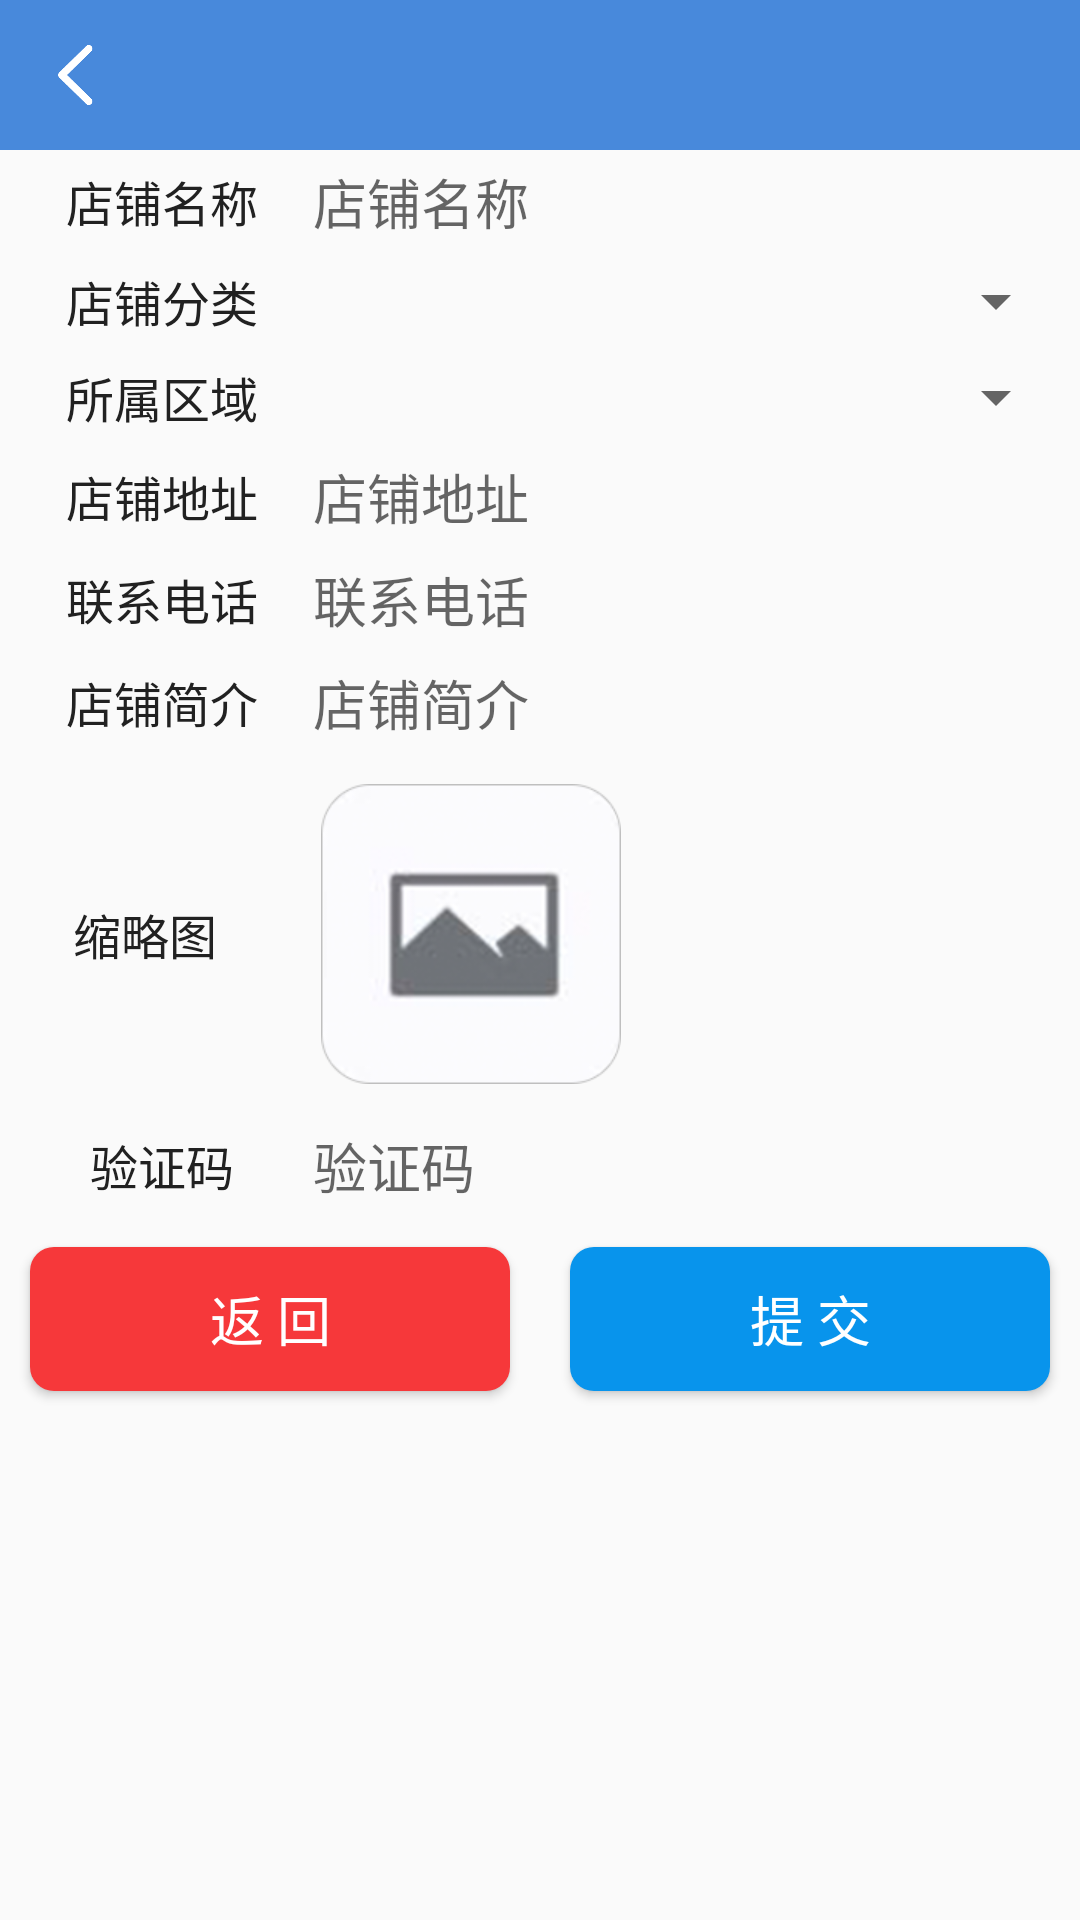

Icon bounding boxes for this 1080 x 1920 phone screenshot, format (x1, y1, x2, y2):
back: (58, 45, 93, 105)
